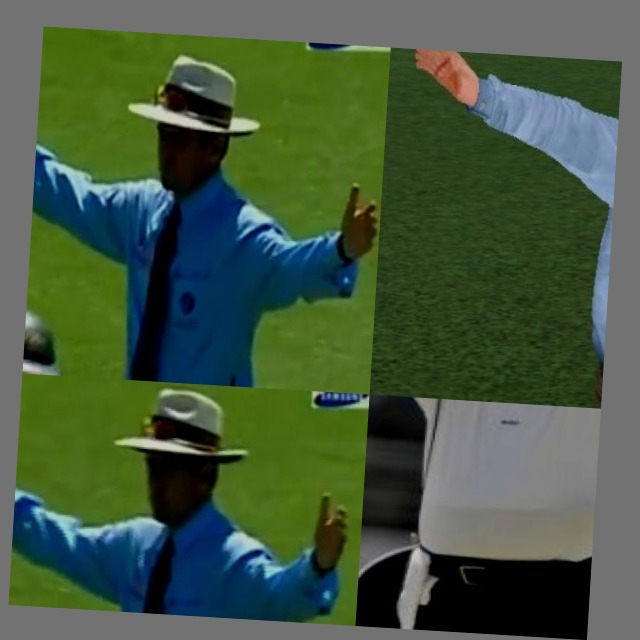No_Ball: (385, 48, 622, 409)
Six: (355, 395, 601, 640)
Wide: (22, 28, 391, 395), (8, 373, 369, 626)
